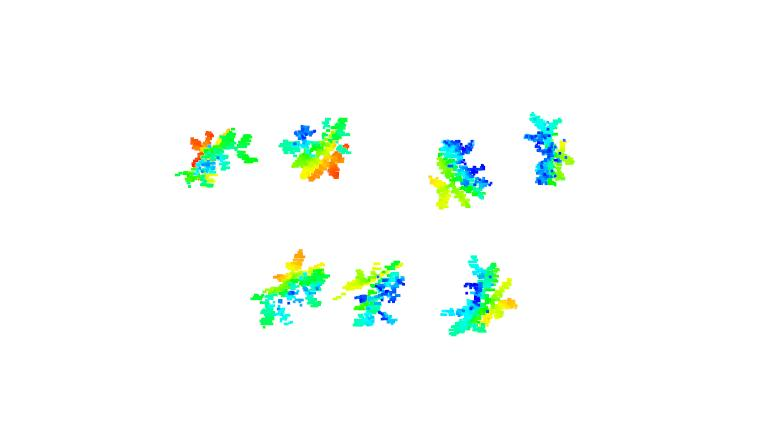chickpea: (246, 248, 330, 326), (444, 257, 519, 339), (176, 121, 261, 188), (426, 136, 498, 210), (279, 114, 354, 183), (345, 257, 406, 330), (520, 112, 575, 188)
